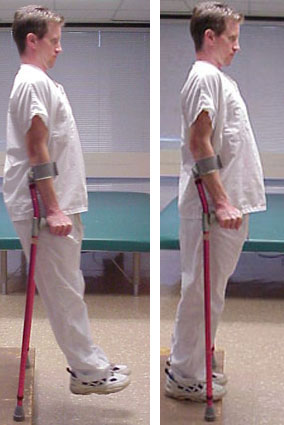crutches: (4, 4, 131, 423), (164, 3, 268, 422)
